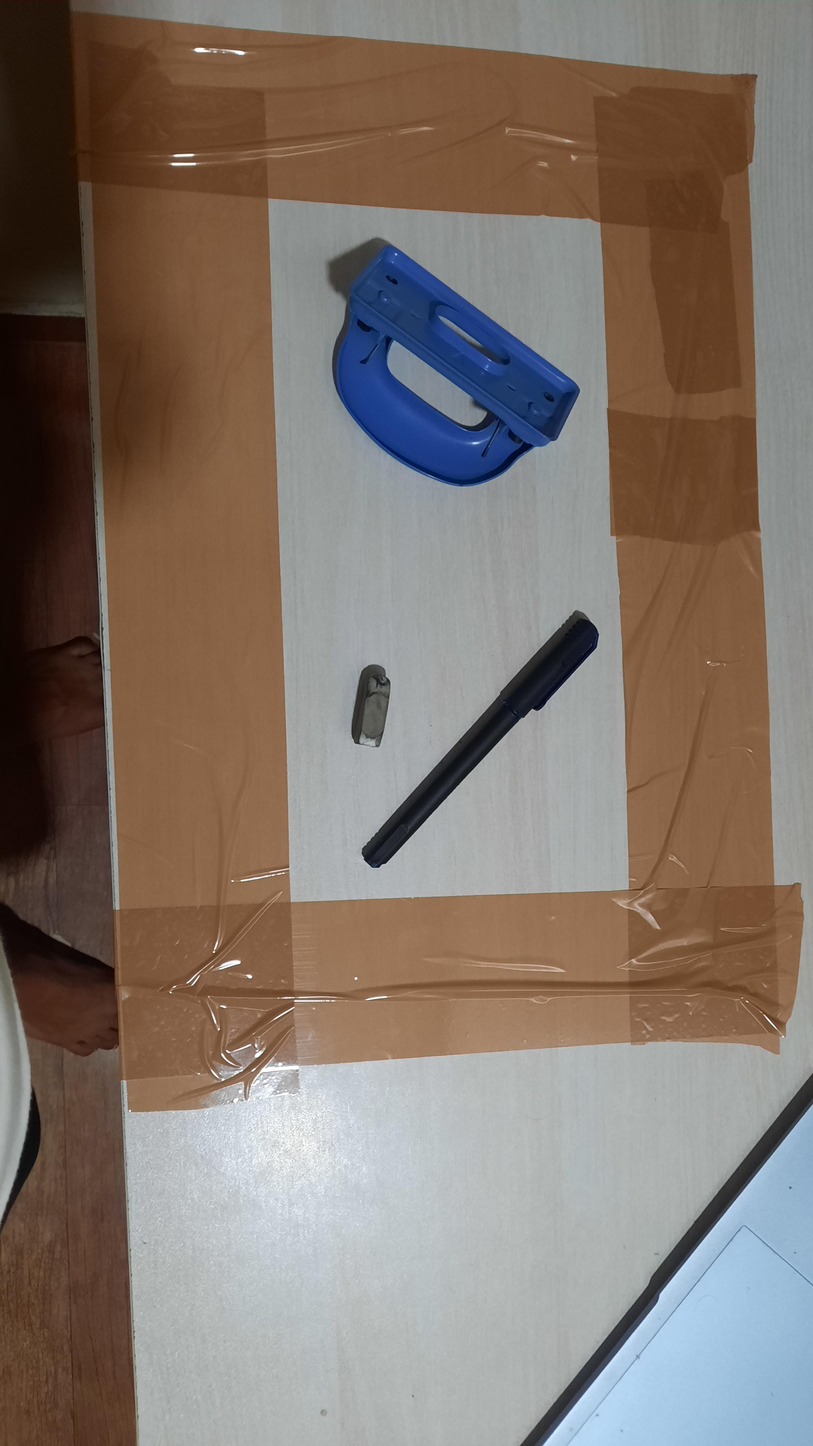Eraser: (352, 664, 391, 748)
Pen: (361, 611, 599, 868)
Punch: (334, 243, 581, 487)
